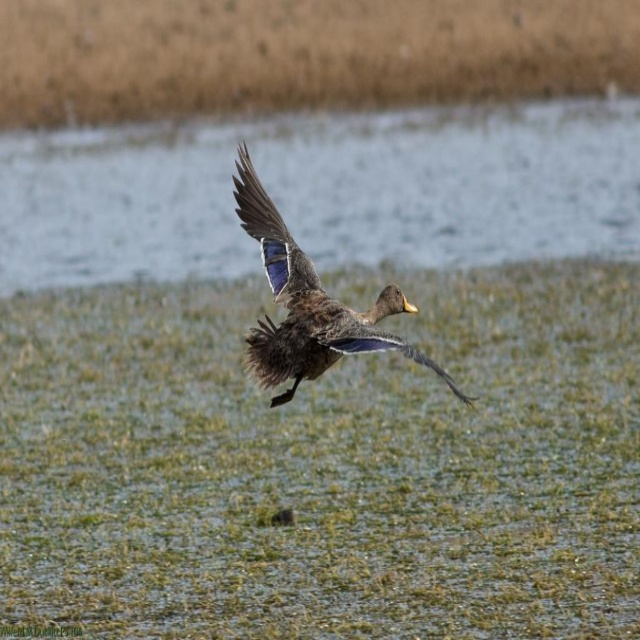Duck: (223, 157, 476, 424)
